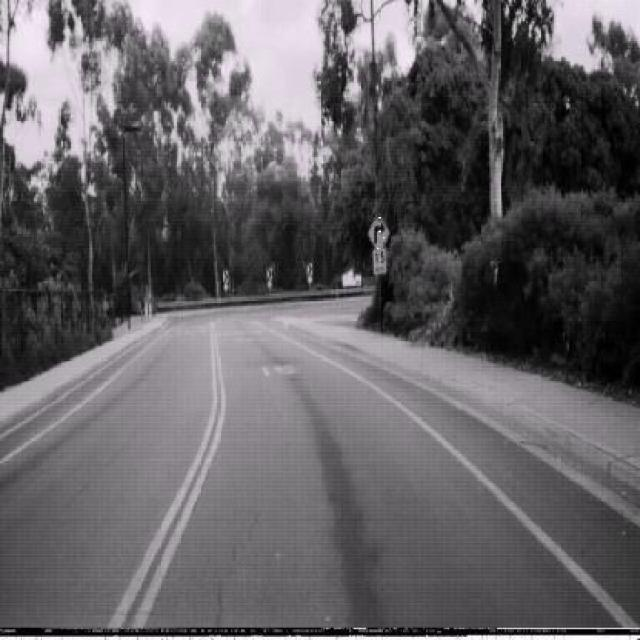turnRight: (368, 210, 390, 253)
